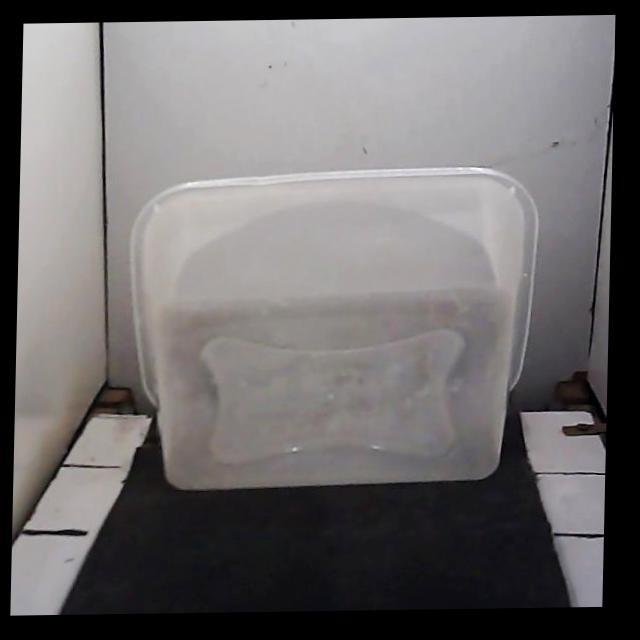plastico: (132, 168, 537, 489)
